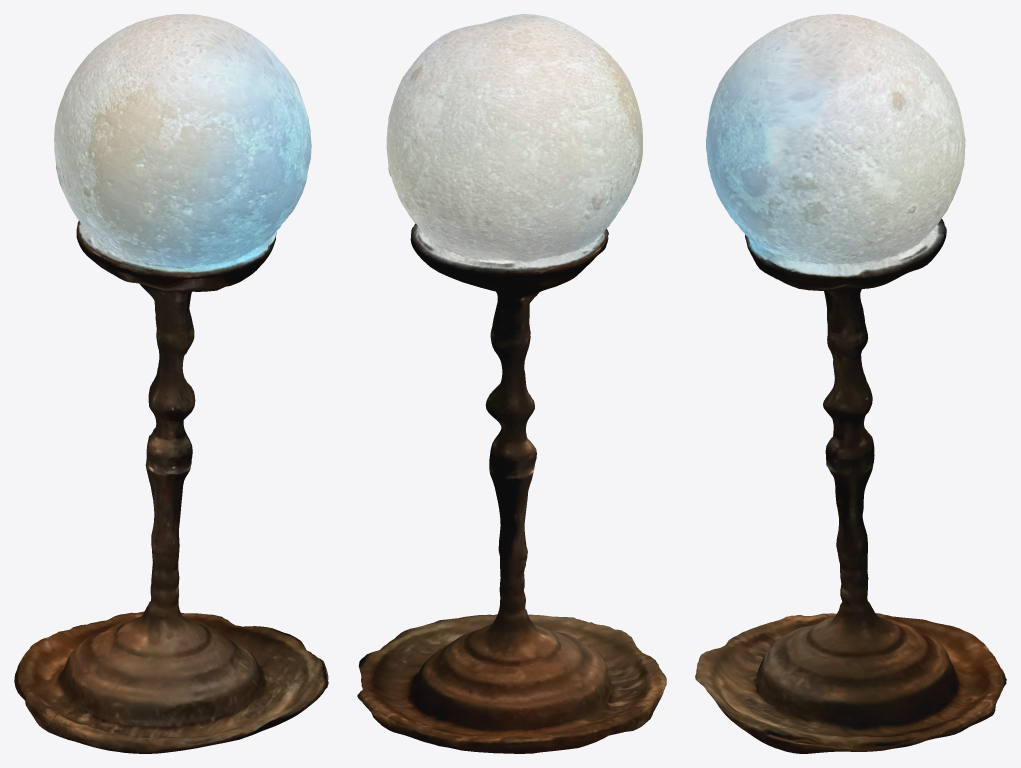
Rendered from Untitled_Scan_19_16_20.gltf.
The picture shows the model from 3 angles, left to right: view 1: azimuth 30°, elevation 25°; view 2: azimuth 150°, elevation 25°; view 3: azimuth 270°, elevation 25°; orthographic projection.
Size of the model in its own units: 0.1693 by 0.4148 by 0.1684.
Materials: 1 (1 with a texture image).
